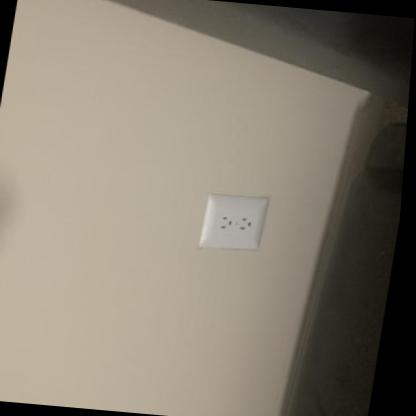OUTLET: (198, 191, 270, 255)
